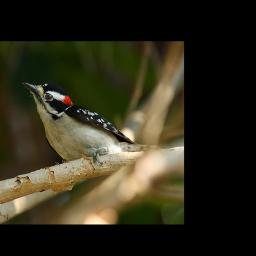Woodpecker: (21, 77, 163, 168)
